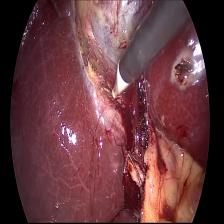Hook: (101, 62, 131, 99)
